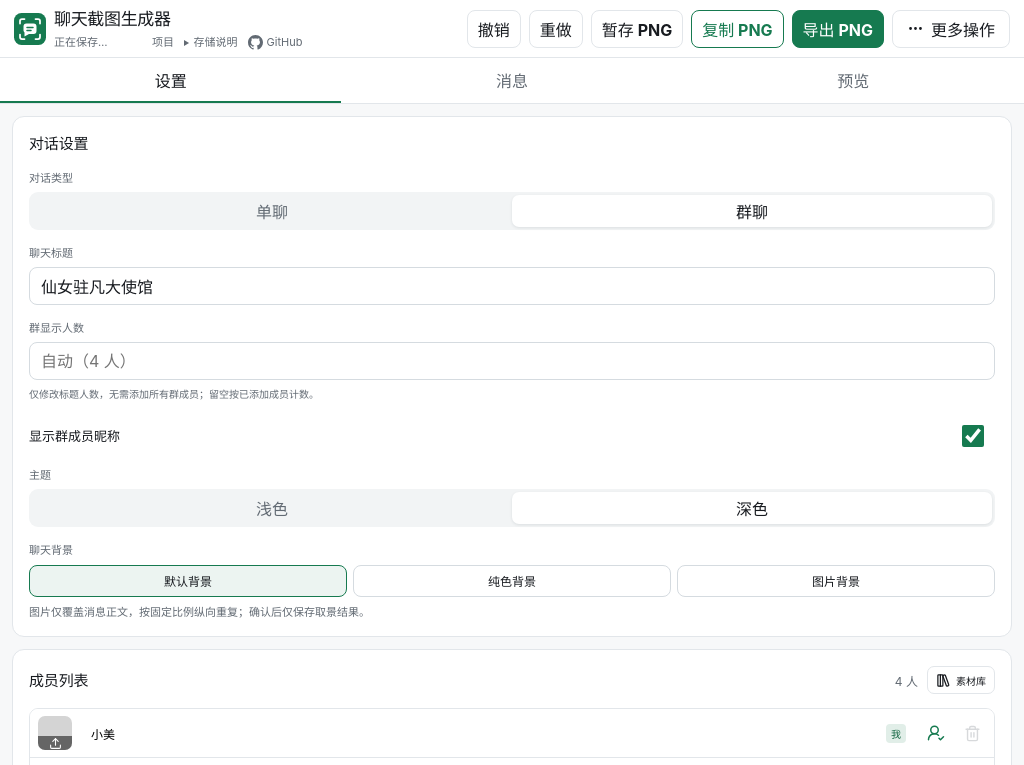
App › blocks export errors instead of offering warning override
This screenshot has width=1024, height=765.
Step 1. Click the button "导出 PNG" → (838, 28), box [792,10,884,48]
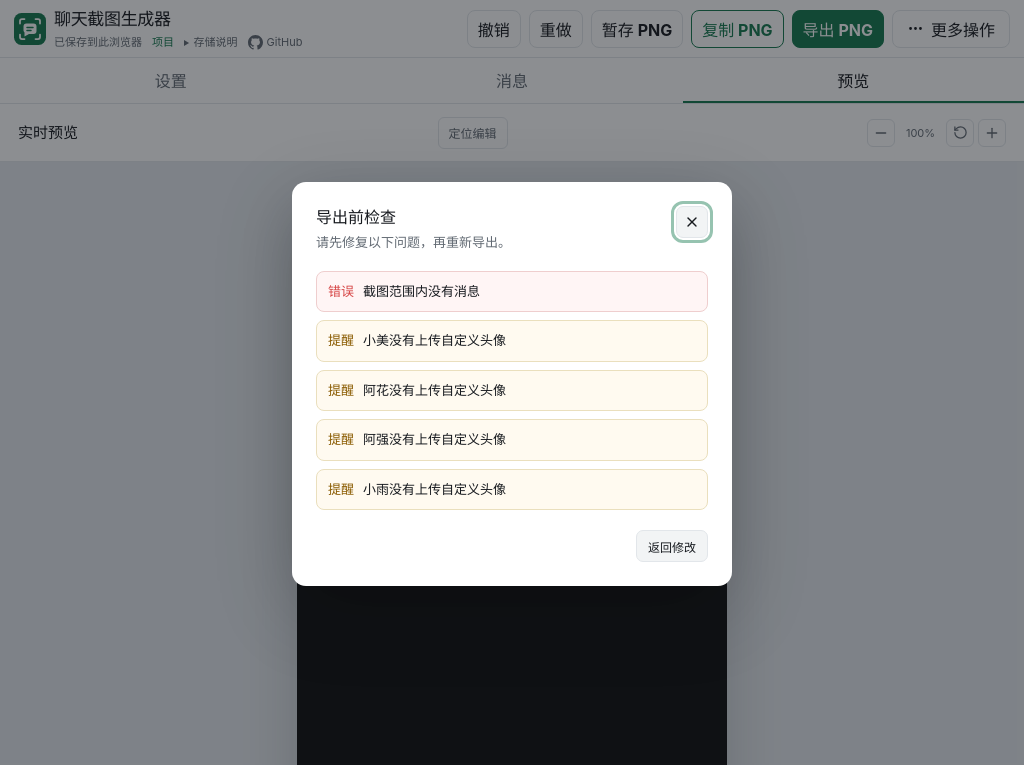
Check: the text "截图范围内没有消息" is shown, box [363,283,480,299]
